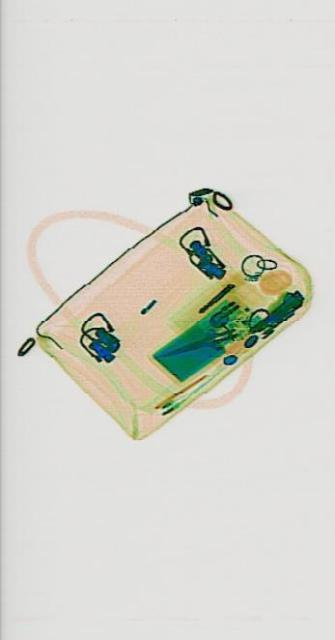Knife: (156, 322, 239, 363)
